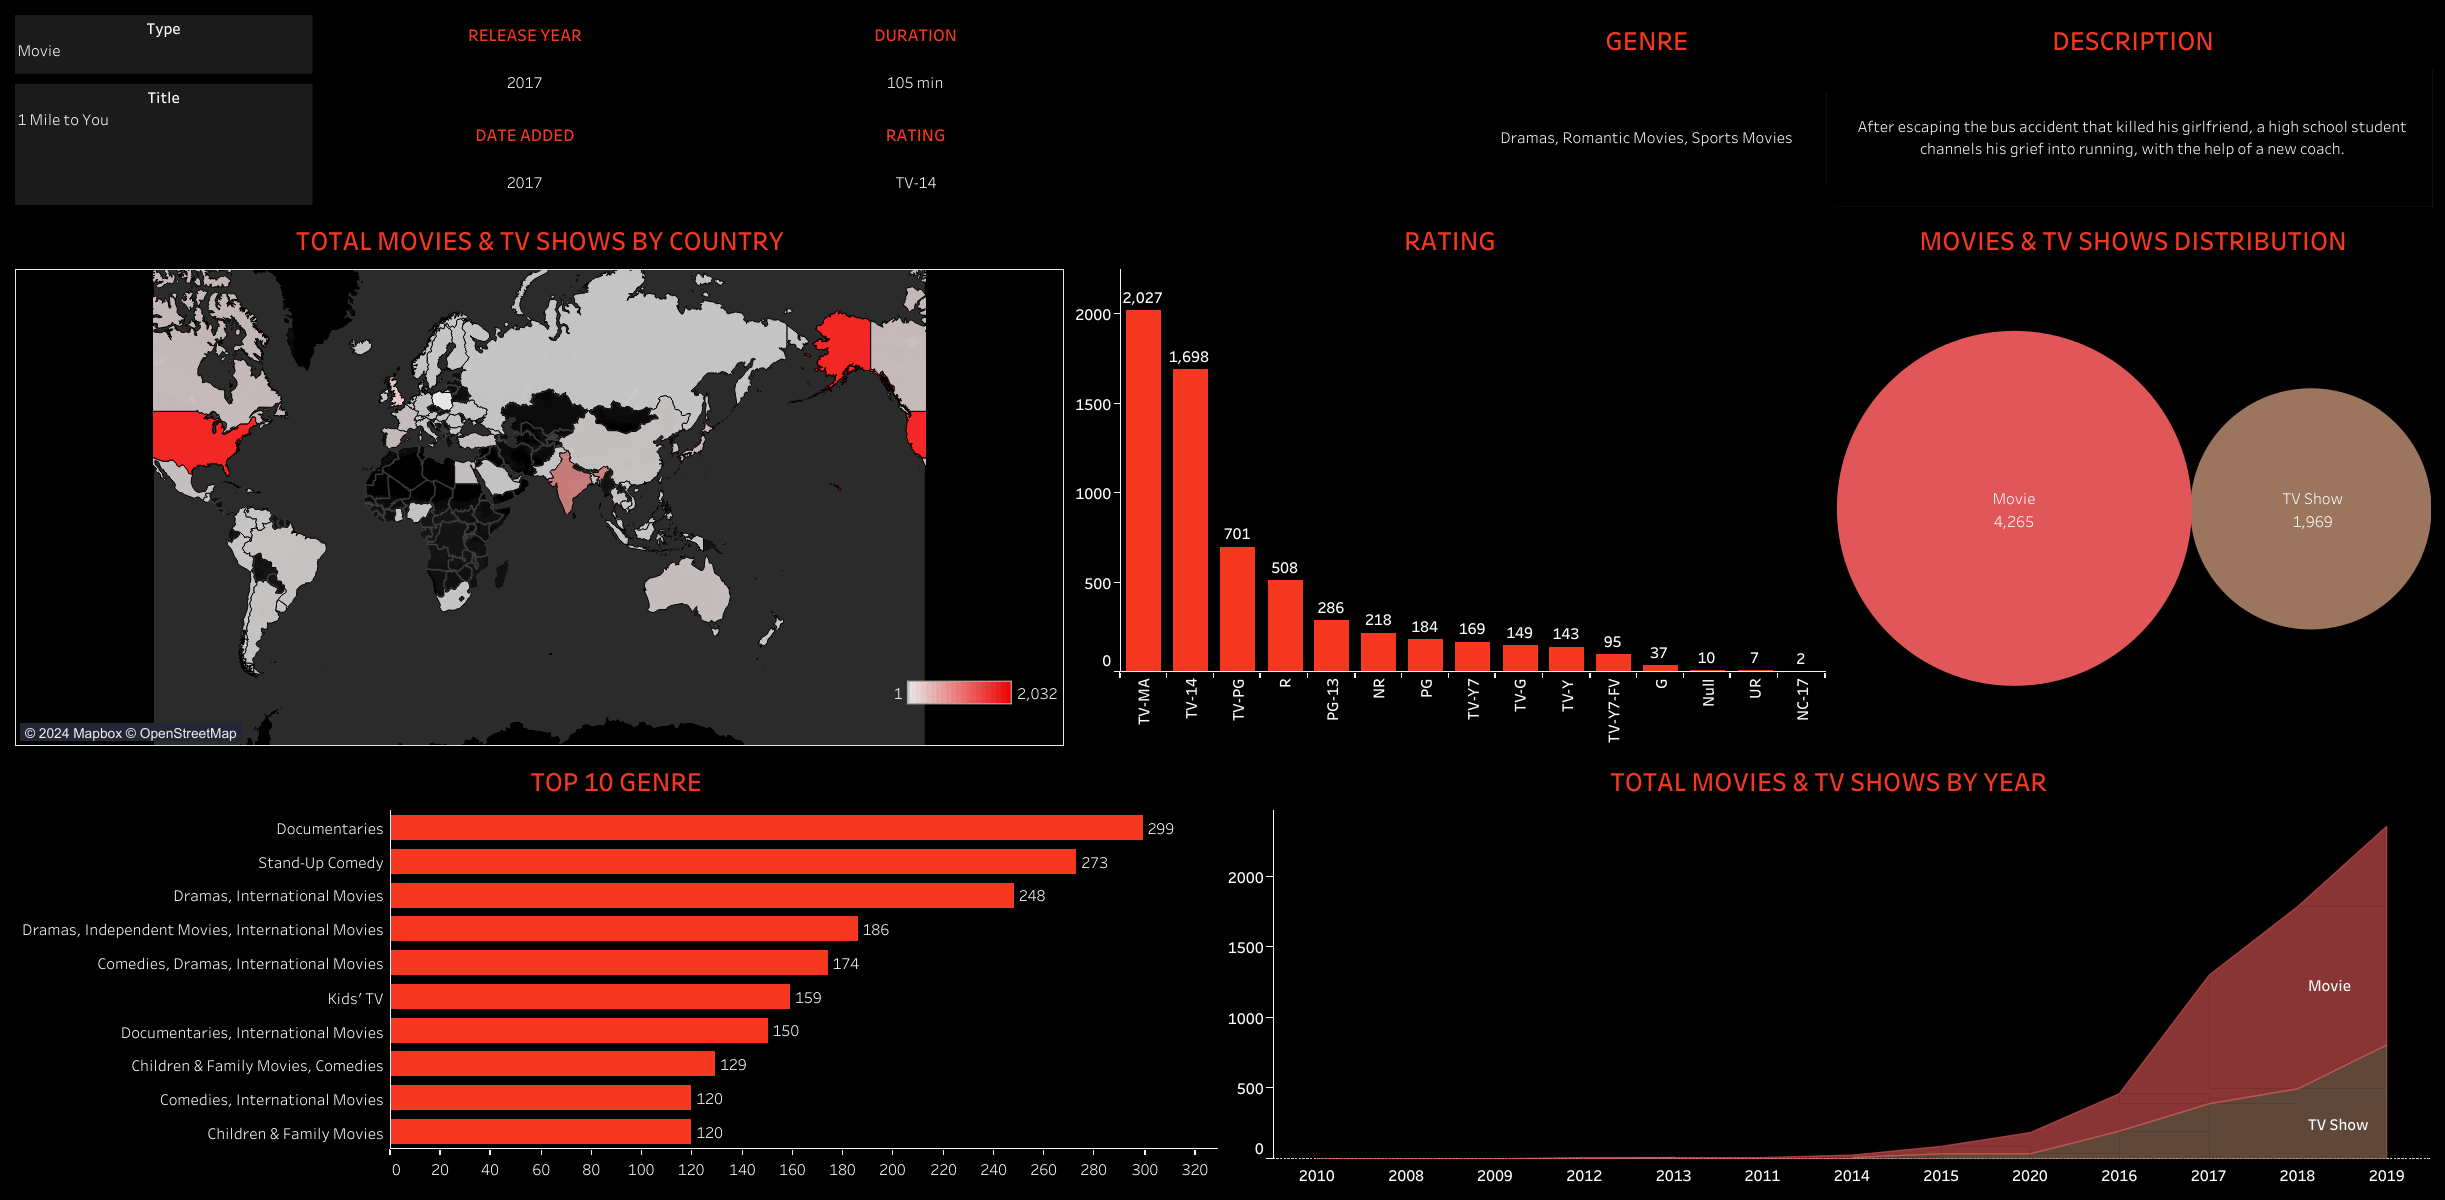

What the dashboard file says about the page in this screenshot:
{"tool":"tableau","page":{"name":"Dashboard 1","canvas":[1957,961],"ordinal":0},"visuals":[{"type":"filter","title":"DESCRIPTION","param":"[federated.18dw89501nbfv51dg5ry904p8drr].[none:type:nk]","box":[8,8,246,55]},{"type":"worksheet","title":"RELEASE YEAR","mark":"Automatic","box":[254,8,332,80]},{"type":"worksheet","title":"DURATION","mark":"Automatic","box":[586,8,293,80]},{"type":"image","box":[879,8,292.5,160]},{"type":"worksheet","title":"GENRE","mark":"Automatic","box":[1171.5,8,292.5,160]},{"type":"worksheet","title":"DESCRIPTION","mark":"Automatic","box":[1464,8,485,160]},{"type":"filter","title":"DESCRIPTION","param":"[federated.18dw89501nbfv51dg5ry904p8drr].[none:title:nk]","box":[8,63,246,105]},{"type":"worksheet","title":"DATE ADDED","mark":"Automatic","box":[254,88,332,80]},{"type":"worksheet","title":"RATING","mark":"Automatic","box":[586,88,293,80]},{"type":"worksheet","title":"TOTAL MOVIES & TV SHOWS BY COUNTRY","mark":"Multipolygon","box":[8,168,847.9,433]},{"type":"worksheet","title":"RATINGS","mark":"Automatic","rows":["show_id"],"cols":["rating"],"box":[855.9,168,607.8,433]},{"type":"worksheet","title":"MOVIES & TV SHOWS DISTRIBUTION","mark":"Circle","box":[1463.7,168,485.3,433]},{"type":"legend","title":"TOTAL MOVIES & TV SHOWS BY COUNTRY","param":"[federated.18dw89501nbfv51dg5ry904p8drr].[ctd:show_id:qk]","box":[711,541,140,48]},{"type":"worksheet","title":"TOP 10 GENRE","mark":"Automatic","rows":["listed_in"],"cols":["show_id"],"box":[8,601,970.5,352]},{"type":"worksheet","title":"TOTAL MOVIES & TV SHOWS BY YEAR","mark":"Area","rows":["show_id"],"cols":["date_added"],"box":[978.5,601,970.5,352]}]}

Visuals, with their boxes in screenshot pixels (x1, y1, x2, y2), scaled from the page's 1957x961 canvas onto the 2445x1200 screenshot:
"DESCRIPTION" filter: box(10, 10, 317, 79)
"RELEASE YEAR" worksheet: box(317, 10, 732, 110)
"DURATION" worksheet: box(732, 10, 1098, 110)
image: box(1098, 10, 1464, 210)
"GENRE" worksheet: box(1464, 10, 1829, 210)
"DESCRIPTION" worksheet: box(1829, 10, 2435, 210)
"DESCRIPTION" filter: box(10, 79, 317, 210)
"DATE ADDED" worksheet: box(317, 110, 732, 210)
"RATING" worksheet: box(732, 110, 1098, 210)
"TOTAL MOVIES & TV SHOWS BY COUNTRY" worksheet (Multipolygon marks): box(10, 210, 1069, 750)
"RATINGS" worksheet: box(1069, 210, 1829, 750)
"MOVIES & TV SHOWS DISTRIBUTION" worksheet (Circle marks): box(1829, 210, 2435, 750)
"TOTAL MOVIES & TV SHOWS BY COUNTRY" legend: box(888, 676, 1063, 735)
"TOP 10 GENRE" worksheet: box(10, 750, 1222, 1190)
"TOTAL MOVIES & TV SHOWS BY YEAR" worksheet (Area marks): box(1222, 750, 2435, 1190)
